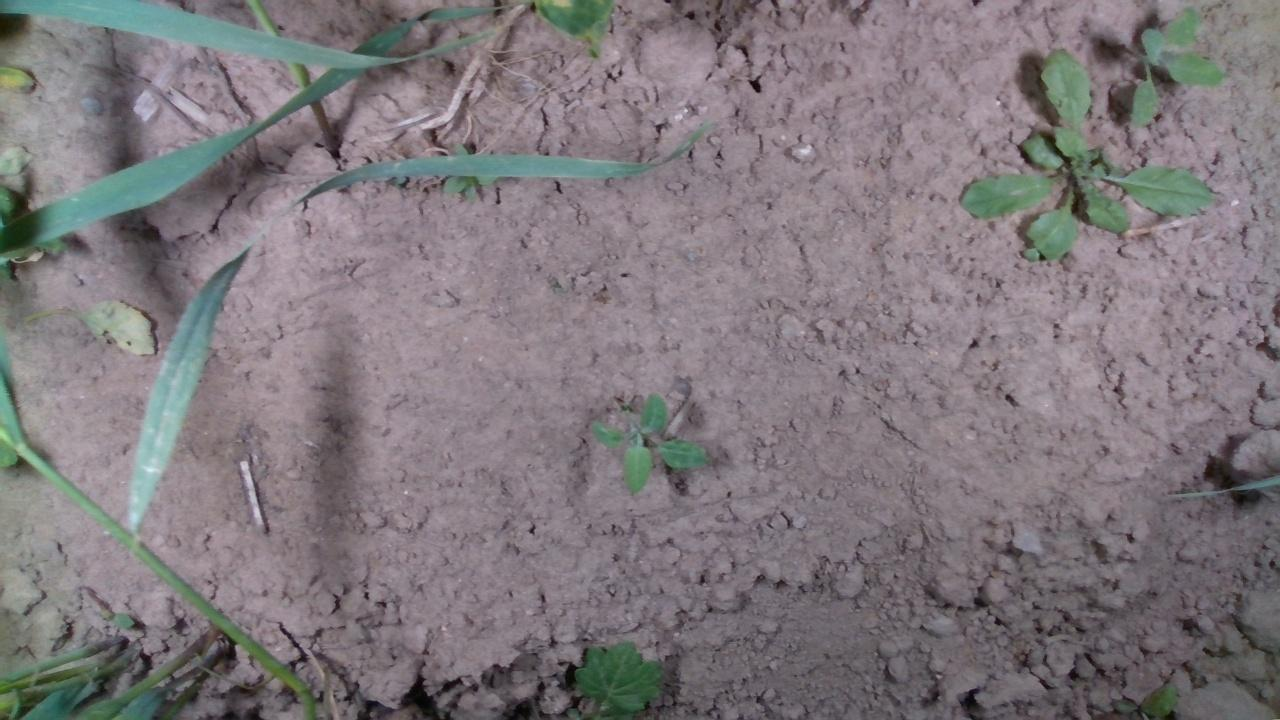weed: (588, 385, 705, 500)
